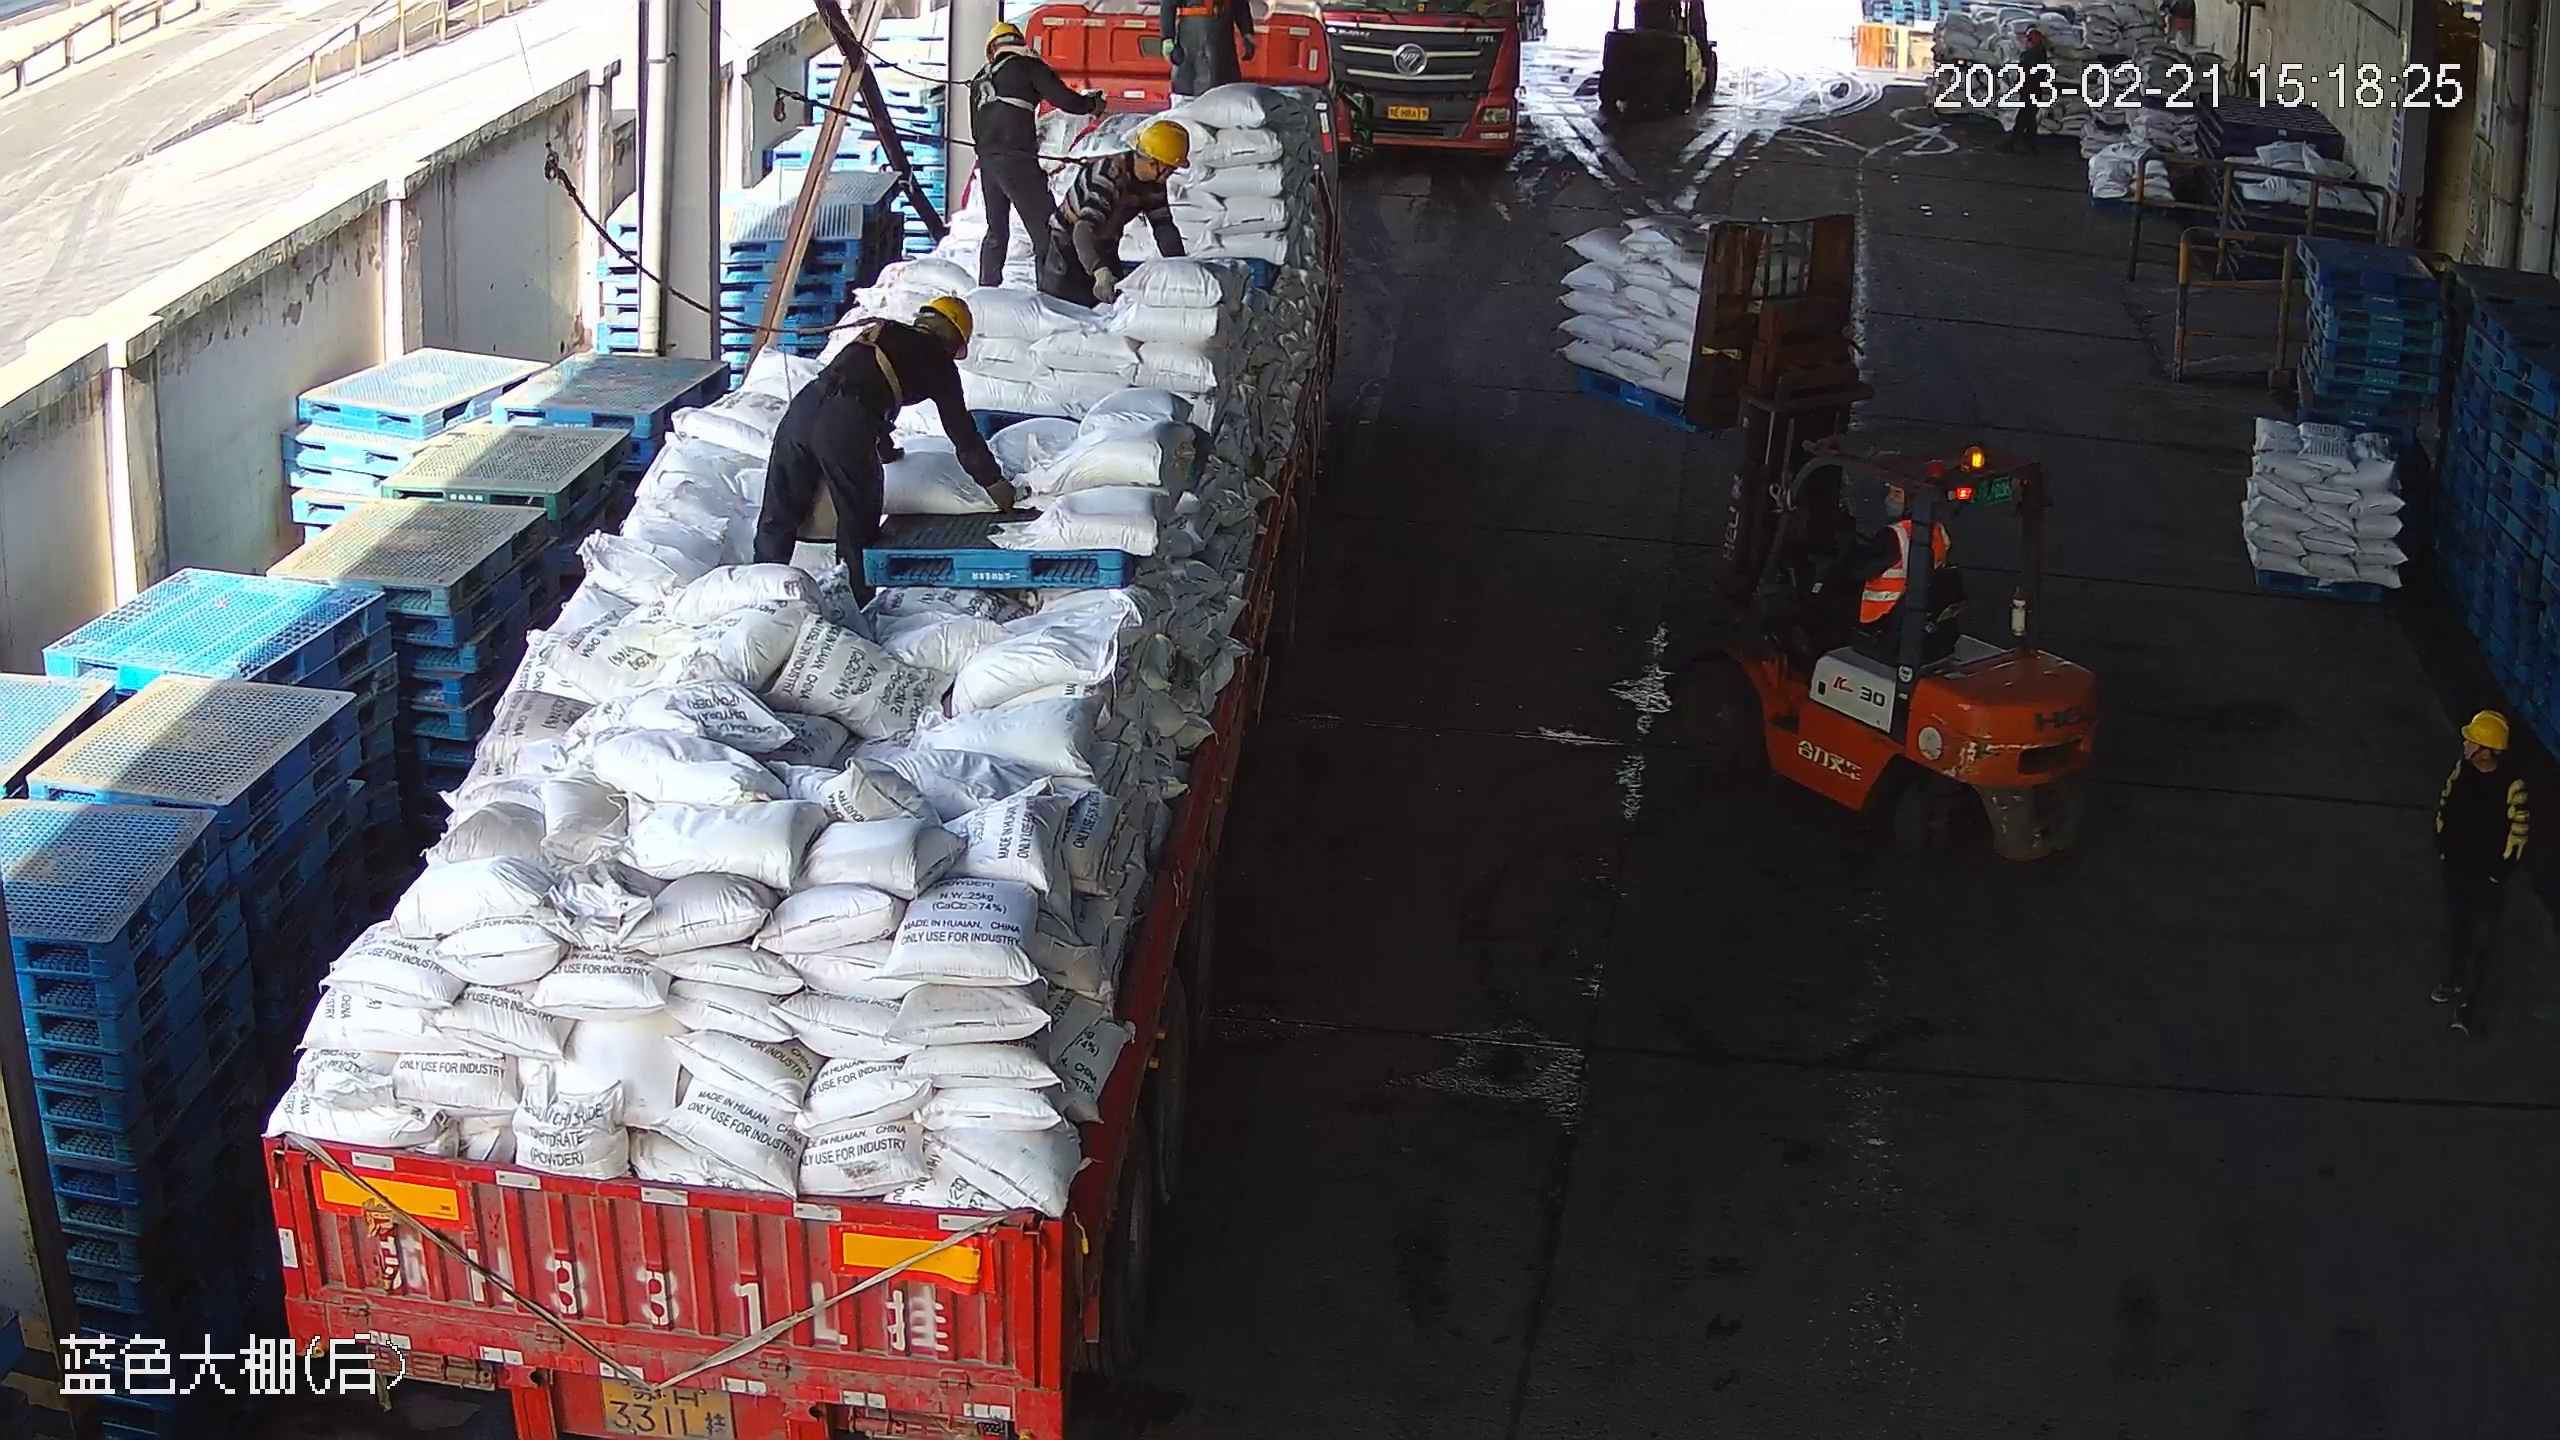belt: (842, 315, 920, 410), (1077, 146, 1138, 235), (976, 45, 1040, 118)
head: (866, 291, 974, 427), (2427, 708, 2530, 832), (1088, 123, 1195, 239), (967, 20, 1061, 128), (2010, 32, 2054, 88)
helmet: (1134, 118, 1195, 172), (917, 296, 974, 354), (2462, 711, 2510, 754), (981, 20, 1029, 59), (2027, 30, 2047, 44)
people: (749, 296, 1023, 618), (967, 20, 1108, 283), (2423, 706, 2534, 1039), (1783, 481, 1942, 678), (1039, 118, 1191, 308), (2007, 27, 2051, 163)
truck: (237, 3, 1361, 1439), (1319, 1, 1548, 168)
